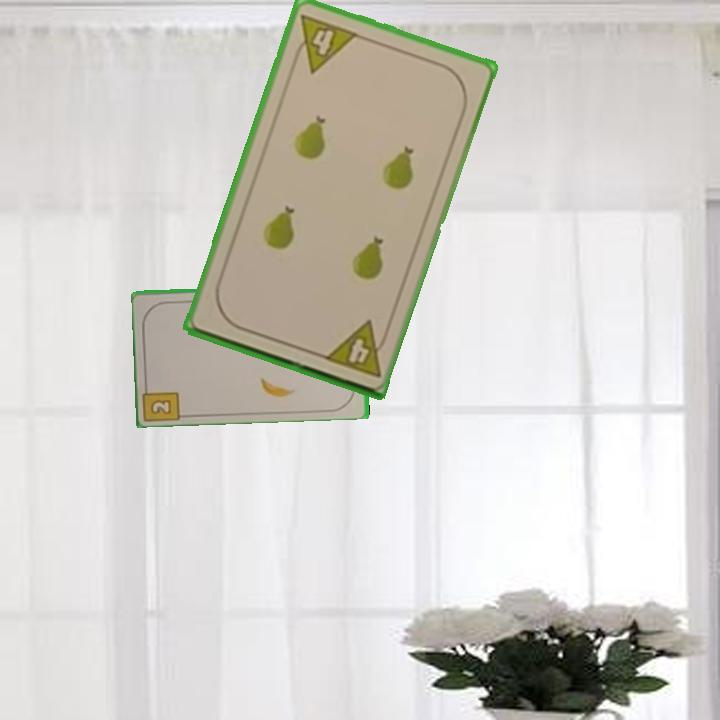2b: (142, 378, 185, 422)
4p: (287, 10, 361, 76), (320, 317, 392, 380)
